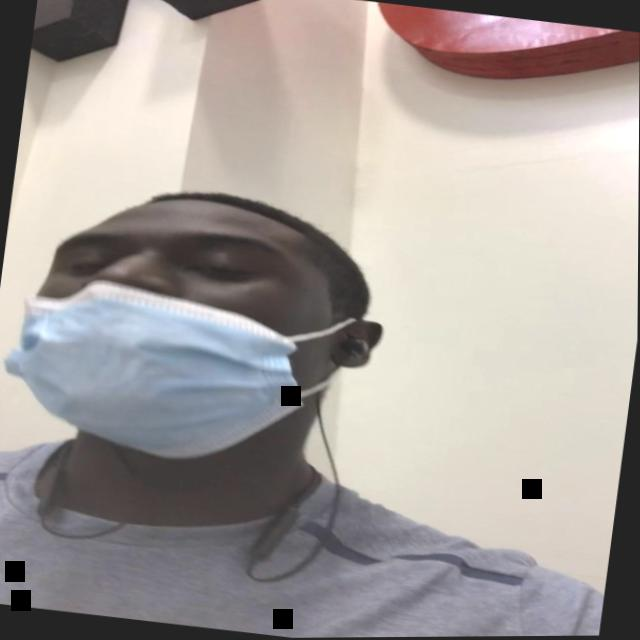Mask: (0, 191, 366, 482)
